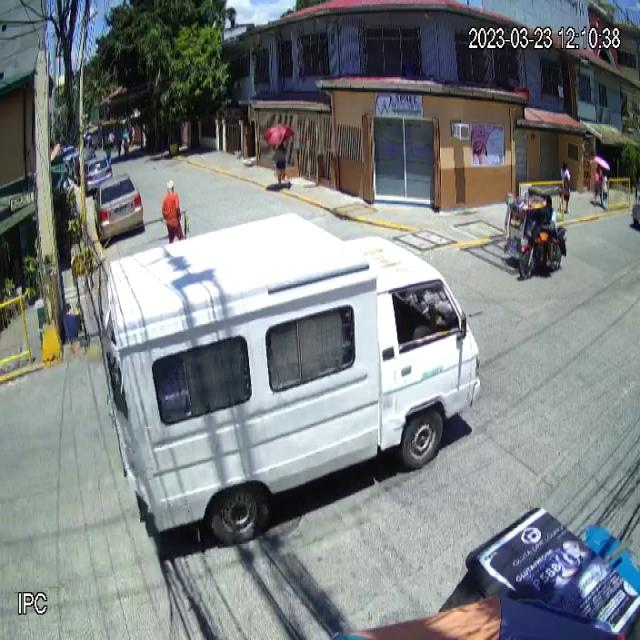Car: (94, 173, 144, 238)
Tricycle: (503, 185, 567, 279)
Van: (100, 211, 482, 546)
